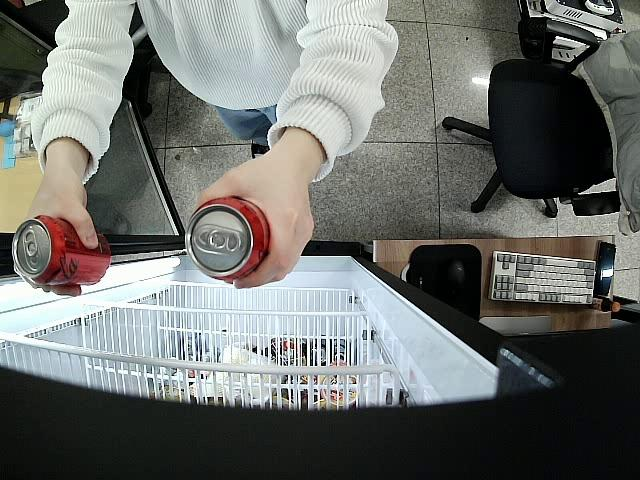00_hand: (196, 158, 315, 290), (12, 171, 99, 294)
11_cocaColaZero: (186, 196, 271, 283), (11, 215, 111, 288)
